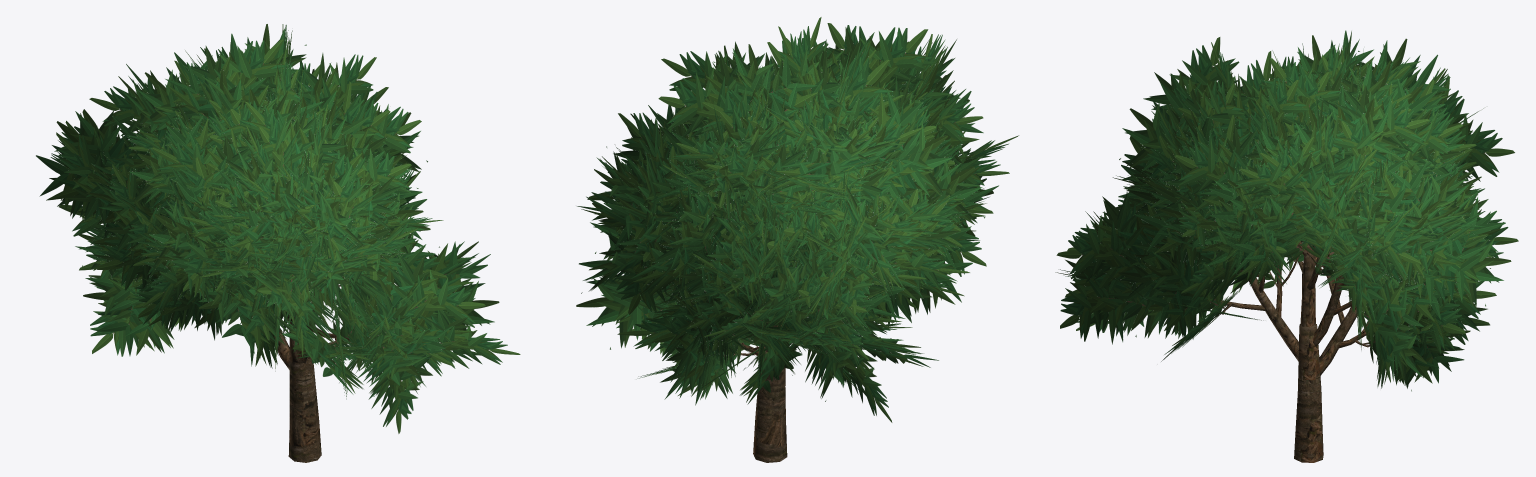
Rendered from veg_tree_mango_b.glb.
3 renders of one model, left to right at view 1: azimuth 30°, elevation 25°; view 2: azimuth 150°, elevation 25°; view 3: azimuth 270°, elevation 25°, orthographic. The views are drawn at different scales.
Parts seen in each view (by area): view 1: Leaves, Trunk; view 2: Leaves, Trunk; view 3: Leaves, Trunk.
Boxes of the visible parts, x1,y1,x2,y2 form: Leaves: (36,24,520,433); Trunk: (211,209,349,462); Leaves: (576,17,1019,422); Trunk: (741,162,838,462); Leaves: (1055,30,1518,391); Trunk: (1221,234,1369,462).
Size of the model in its own units: 33.18 by 34.91 by 37.61.
2 materials, 2 textured.
